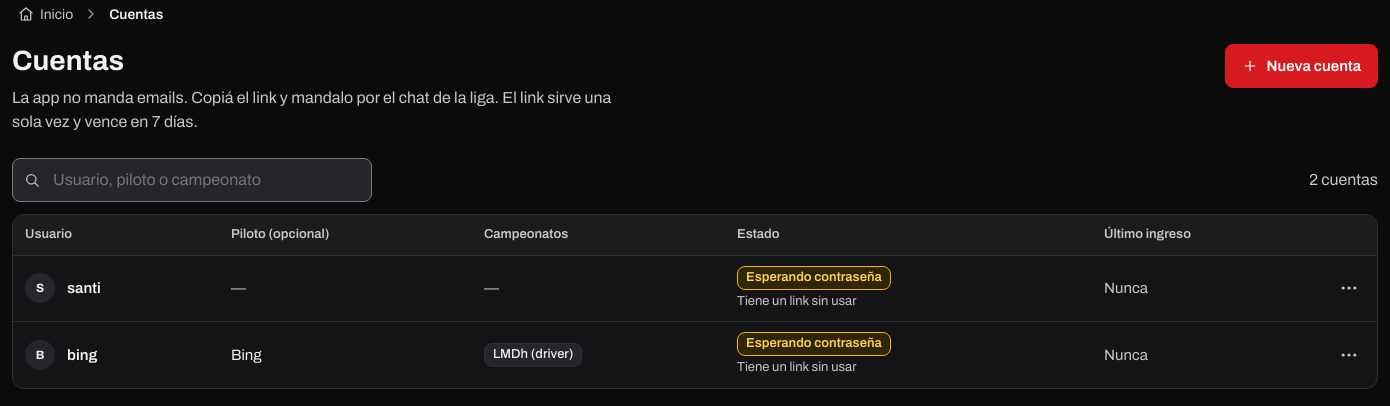
AccountsPage › filters by username, driver, or championship
The image size is (1390, 406).
Type "lmdh" into the search field with placeholder "Usuario, piloto o campeonato".
click(192, 180); type("lmdh")  # box 12,158 -> 372,202
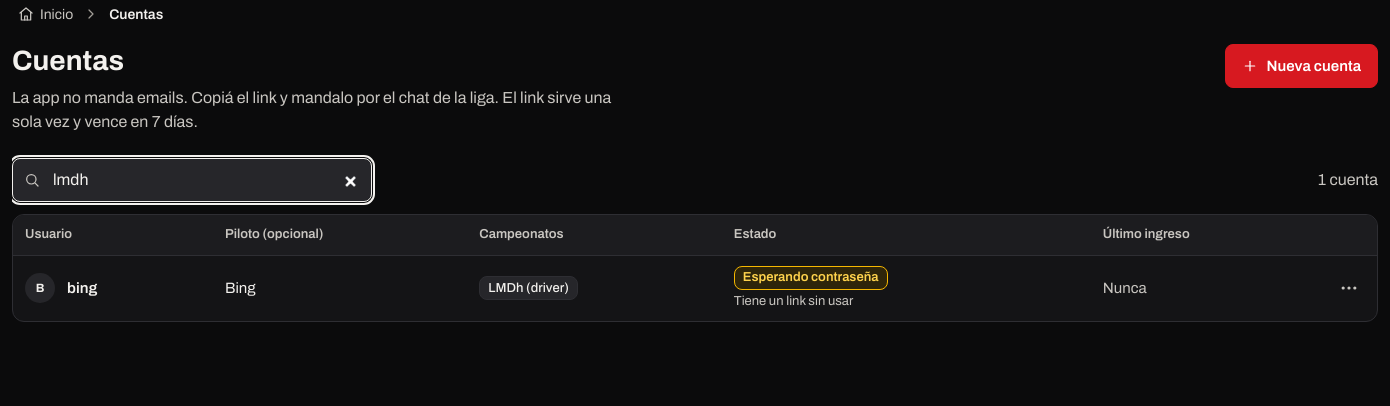
Now the text "1 cuenta" is shown, box 1318,168 -> 1378,192
Now the text "santi" is gone
